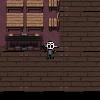Hide: (4, 33, 44, 51)
Jason: (40, 40, 58, 59)
Obstacle: (5, 12, 24, 32), (24, 12, 44, 31), (44, 12, 61, 32), (24, 0, 45, 12), (5, 0, 24, 12), (44, 0, 61, 12)
